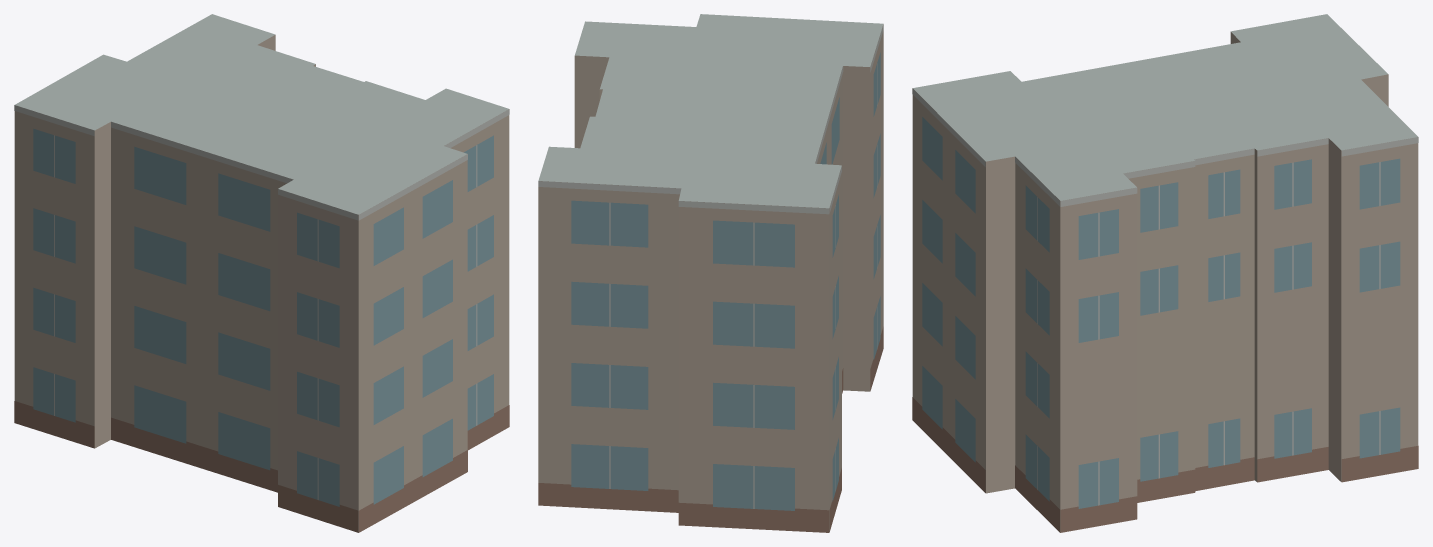
The model's file is survey-upis-32705089.glb.
3 views of the same model, side by side, from view 1: azimuth 30°, elevation 25°; view 2: azimuth 150°, elevation 25°; view 3: azimuth 270°, elevation 25° (orthographic). The views are drawn at different scales.
Visible parts, largest first — view 1: survey-upis-32705089.tmp; view 2: survey-upis-32705089.tmp; view 3: survey-upis-32705089.tmp.
Boxes of the visible parts, <box> form: survey-upis-32705089.tmp: <box>14,14,509,532</box>; survey-upis-32705089.tmp: <box>538,14,883,532</box>; survey-upis-32705089.tmp: <box>912,14,1418,532</box>.
Bounding box in the file's own units: 15.96 × 13.2 × 18.25.
